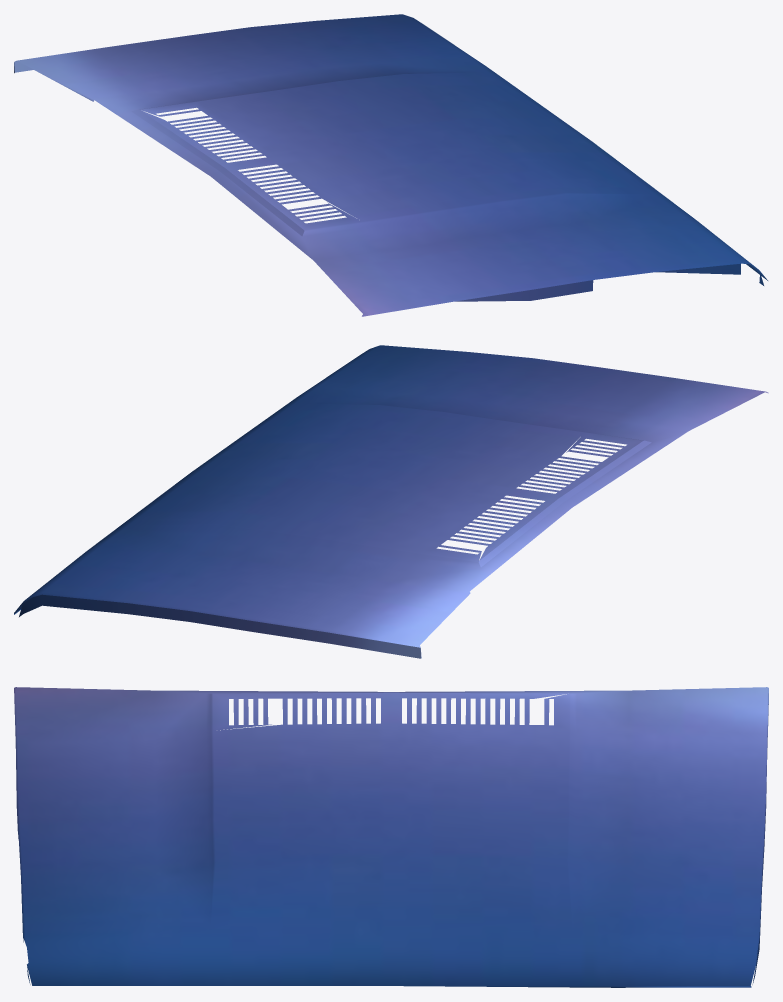
File: cofre.obj
3 renders of one model, top to bottom at view 1: azimuth 30°, elevation 25°; view 2: azimuth 150°, elevation 25°; view 3: azimuth 270°, elevation 25°, orthographic. The views are drawn at different scales.
Visible parts, largest first — view 1: Cofre_Material; view 2: Cofre_Material; view 3: Cofre_Material.
Part boxes in pixels (x1,y1,x2,y2): Cofre_Material: [14, 14, 767, 316]; Cofre_Material: [14, 345, 768, 658]; Cofre_Material: [14, 687, 768, 987].
Bounding box in the file's own units: 0.8838 × 0.1792 × 1.28.
